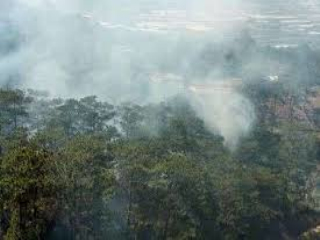smoke: (16, 16, 189, 103), (178, 62, 258, 158)
